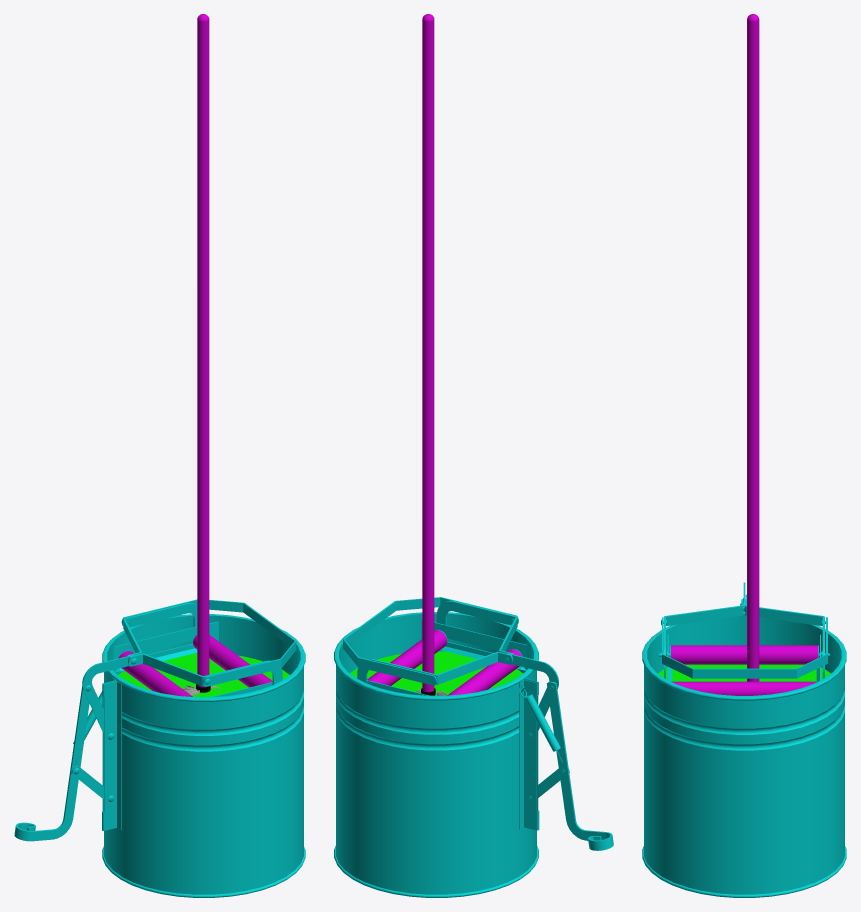
File: SM_MopBucket.fbx
3 renders of one model, left to right at view 1: azimuth 30°, elevation 25°; view 2: azimuth 150°, elevation 25°; view 3: azimuth 270°, elevation 25°, orthographic.
Visible parts, largest first — view 1: MopBucket, Mop; view 2: MopBucket, Mop; view 3: MopBucket, Mop.
Boxes of the visible parts, bbox=[...] form: MopBucket: bbox=[14, 599, 305, 897]; Mop: bbox=[182, 14, 220, 695]; MopBucket: bbox=[334, 597, 613, 897]; Mop: bbox=[415, 14, 447, 695]; MopBucket: bbox=[642, 582, 846, 897]; Mop: bbox=[747, 14, 759, 681].
Bounding box in the file's own units: 53.15 × 158 × 34.76.
